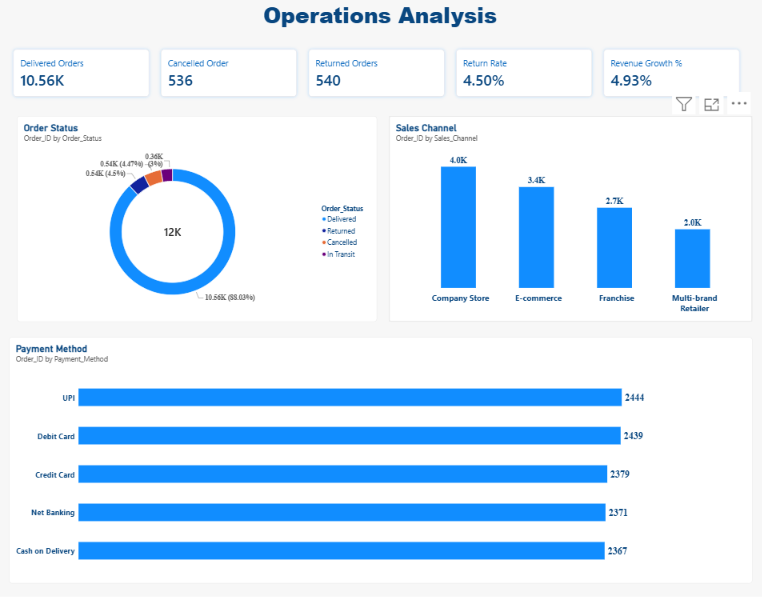

Layout of this report page (visuals, bound fields, positions):
{"tool":"powerbi","page":{"name":"Operations Analysis","canvas":[1920,1500],"ordinal":1},"visuals":[{"type":"cardVisual","fields":{"Data":["Titan_Retail_Cleaned_Master.Delivered Orders","Titan_Retail_Cleaned_Master.Cancelled Order","Titan_Retail_Cleaned_Master.Returned Orders","Titan_Retail_Cleaned_Master.Return Rate","Titan_Retail_Cleaned_Master.Revenue Growth %"]},"box":[32,112,1840,140],"z":0},{"type":"donutChart","title":"Order Status","fields":{"Category":["Titan_Retail_Cleaned_Master.Order_Status"],"Y":["CountNonNull(Titan_Retail_Cleaned_Master.Order_ID)"]},"box":[52,290,900,514],"z":1000},{"type":"clusteredBarChart","title":"Payment Method","fields":{"Category":["Titan_Retail_Cleaned_Master.Payment_Method"],"Y":["CountNonNull(Titan_Retail_Cleaned_Master.Order_ID)"]},"box":[32,842,1858,616],"z":2000},{"type":"clusteredColumnChart","title":"Sales Channel","fields":{"Category":["Titan_Retail_Cleaned_Master.Sales_Channel"],"Y":["CountNonNull(Titan_Retail_Cleaned_Master.Order_ID)"]},"box":[982,290,908,514],"z":3000},{"type":"textbox","box":[0,0,1920,112],"z":4000}]}

Visuals, with their boxes in screenshot pixels (x1, y1, x2, y2), scaled from the page's 1920x1500 canvas onto the 762x597 screenshot:
cardVisual - Titan_Retail_Cleaned_Master.Delivered Orders x Titan_Retail_Cleaned_Master.Cancelled Order: l=13, t=45, r=743, b=100
"Order Status" donutChart: l=21, t=115, r=378, b=320
"Payment Method" clusteredBarChart: l=13, t=335, r=750, b=580
"Sales Channel" clusteredColumnChart: l=390, t=115, r=750, b=320
textbox: l=0, t=0, r=761, b=45
